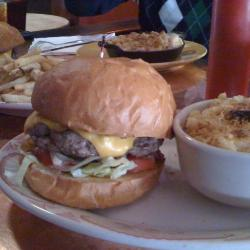burger: (29, 57, 173, 209), (1, 20, 27, 101)
